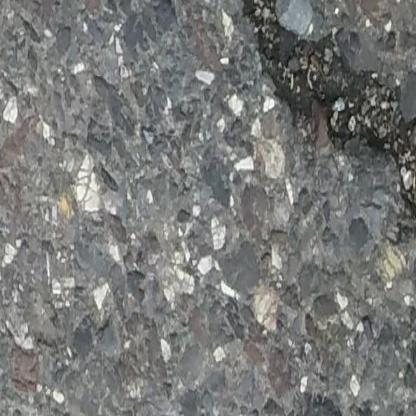Cracks: (228, 0, 416, 247)
